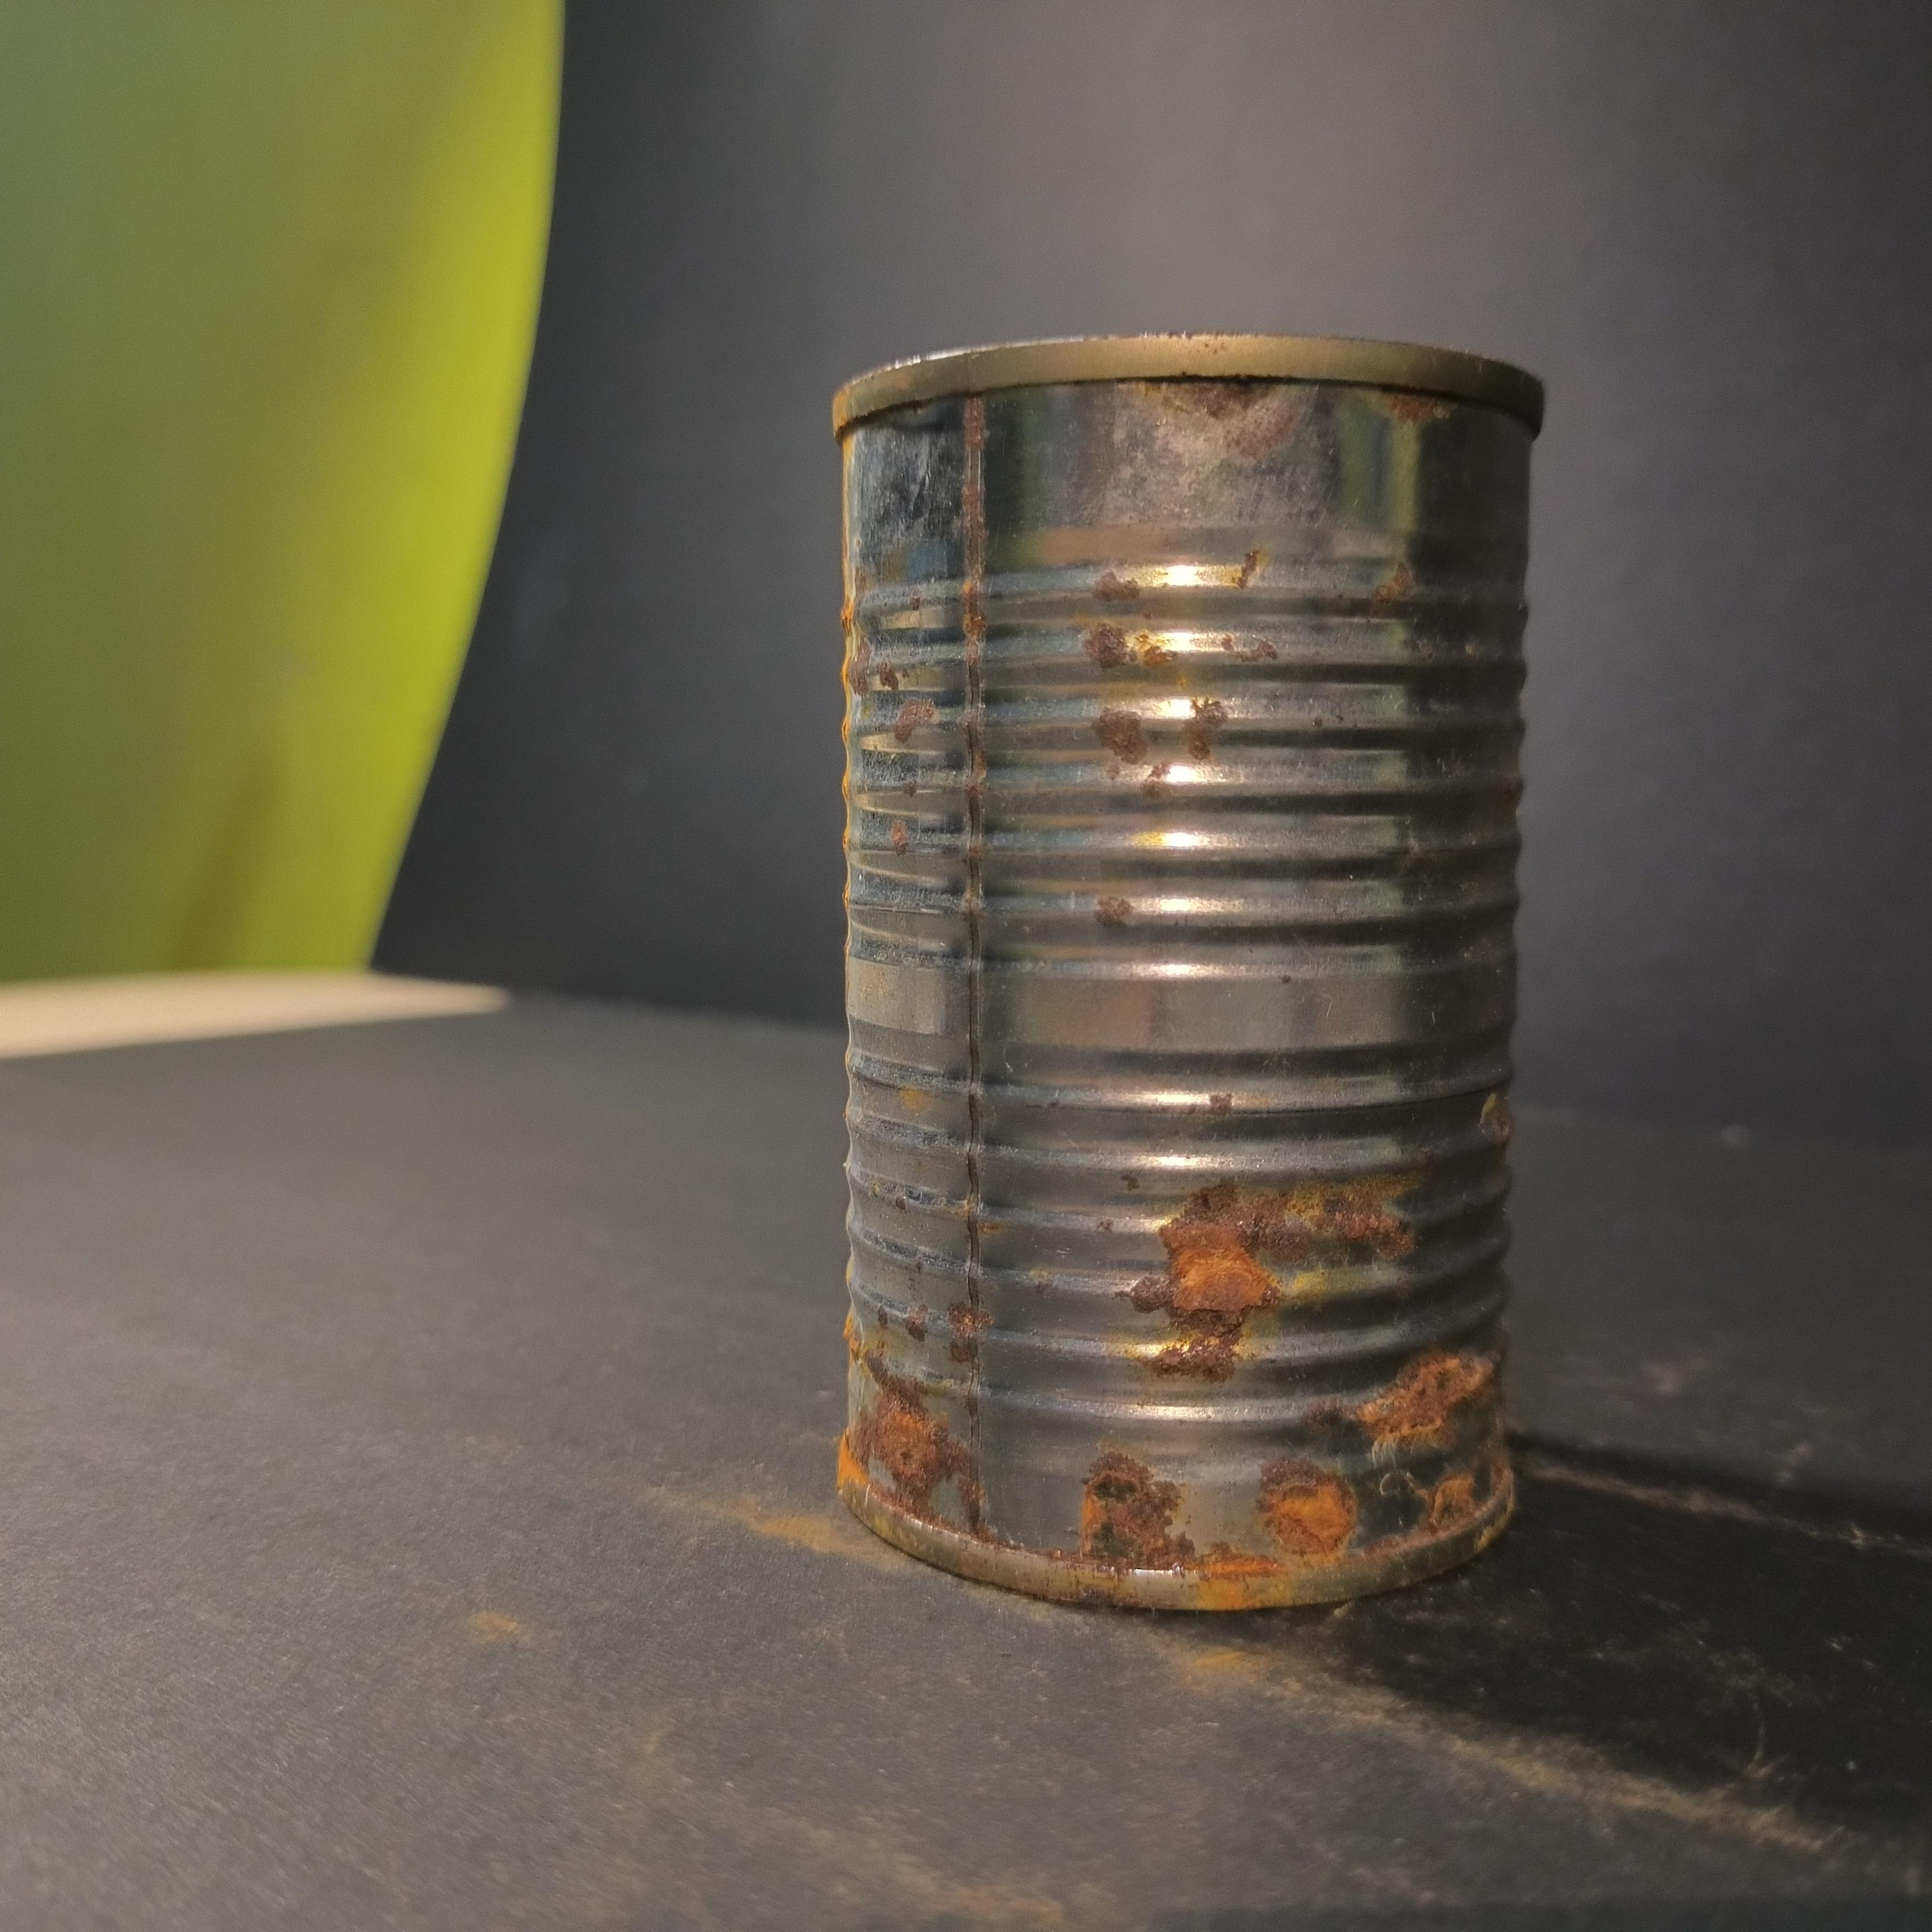Rusted: (782, 301, 1573, 1637)
